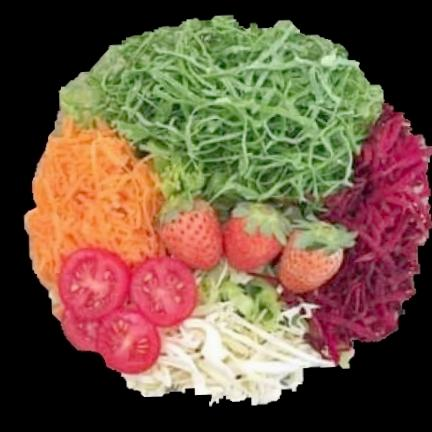beet: (305, 105, 432, 359)
carrot: (25, 118, 163, 296)
salad: (61, 16, 383, 209)
tomato: (59, 248, 197, 374)
